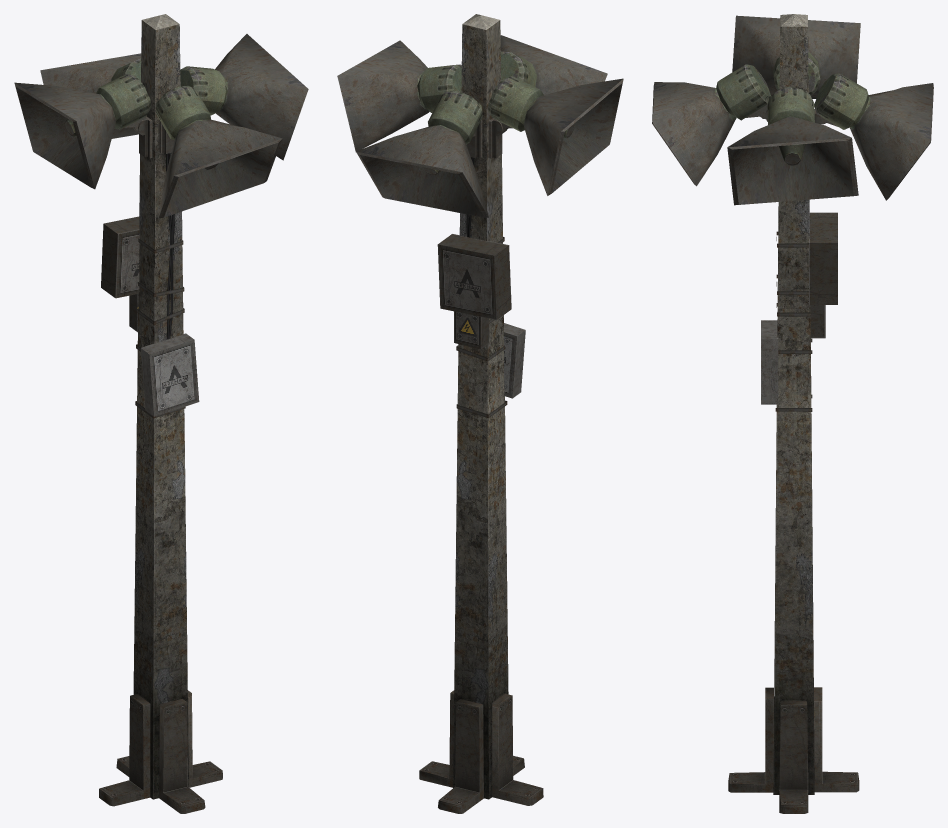
Rendered from speakers.obj.
3 renders of one model, left to right at view 1: azimuth 30°, elevation 25°; view 2: azimuth 150°, elevation 25°; view 3: azimuth 270°, elevation 25°, orthographic.
Visible parts, largest first — view 1: Gotham_Objects_Speakers; view 2: Gotham_Objects_Speakers; view 3: Gotham_Objects_Speakers.
Boxes of the visible parts, x1,y1,x2,y2 form: Gotham_Objects_Speakers: (14, 14, 308, 813); Gotham_Objects_Speakers: (337, 14, 623, 813); Gotham_Objects_Speakers: (652, 14, 933, 813).
Size of the model in its own units: 251 by 804 by 266.
